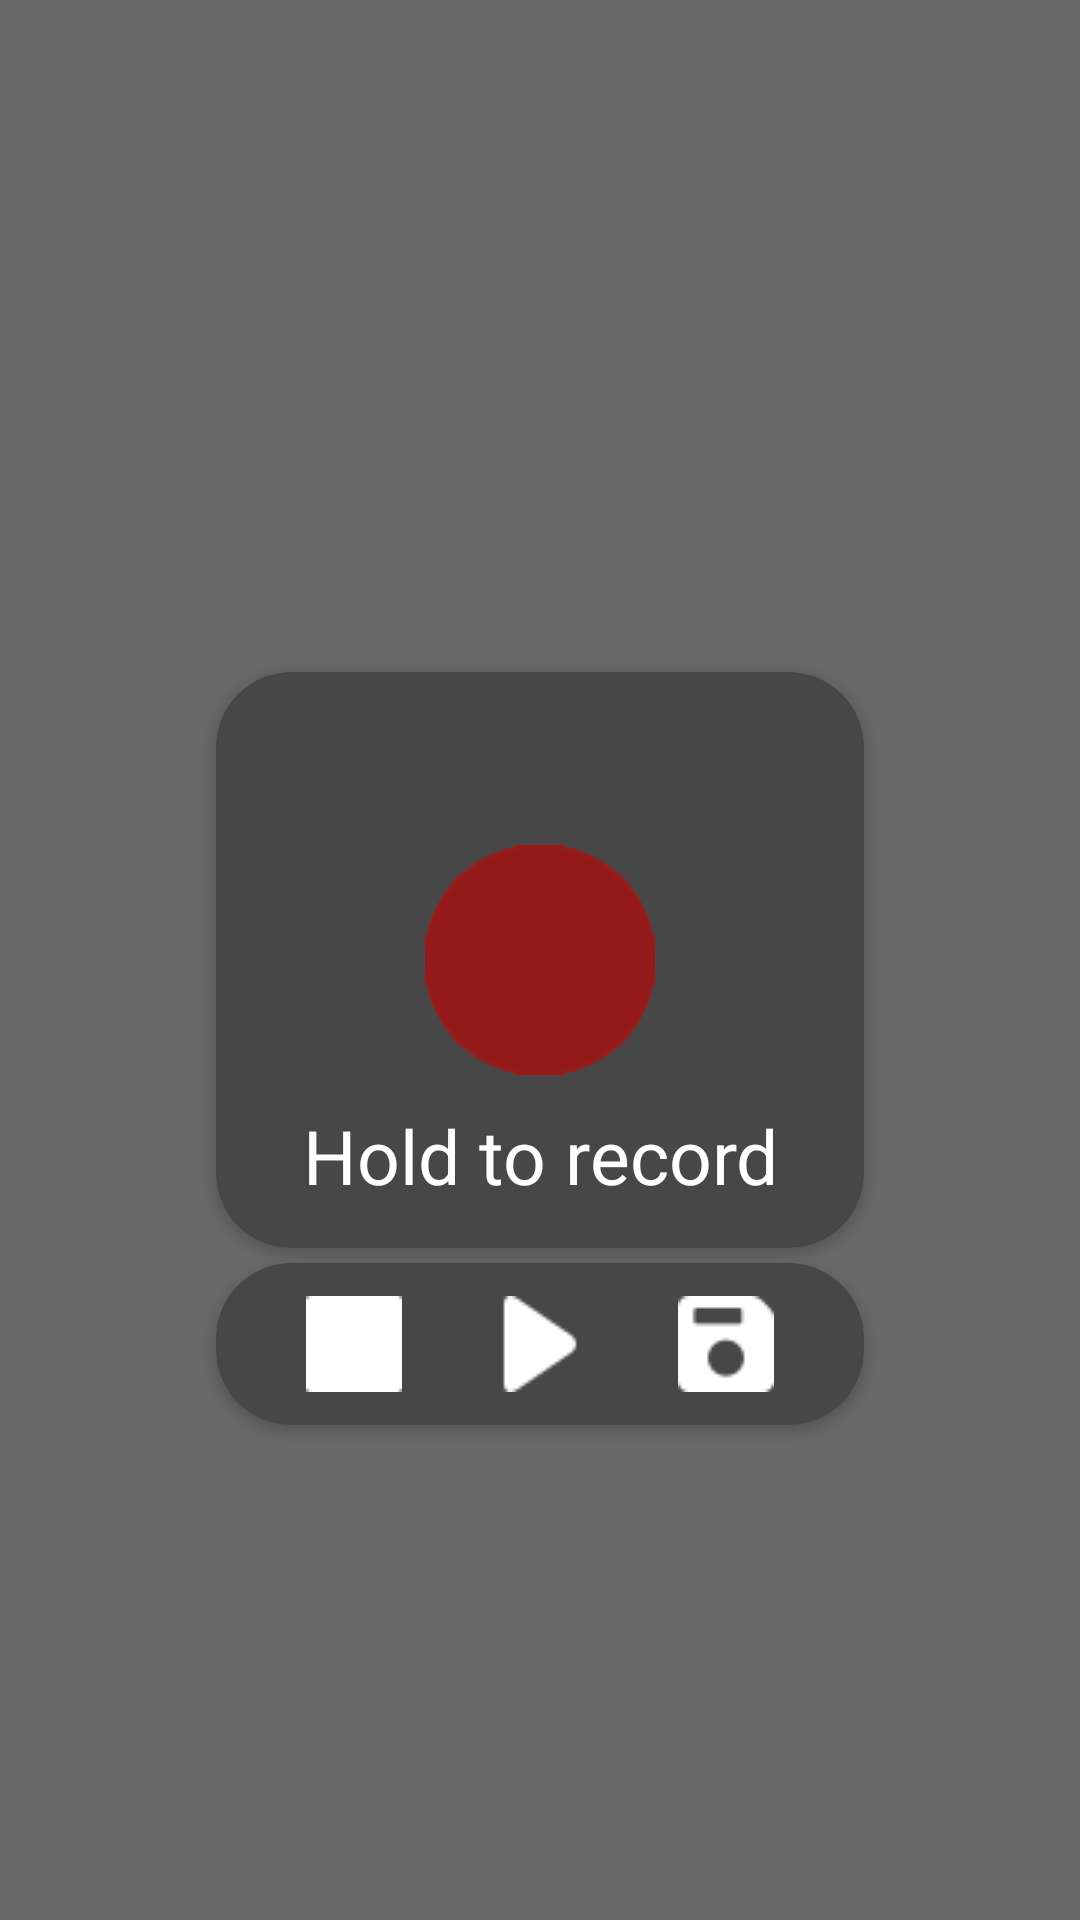

Where to tap for icons on this 1080 x 1920 app screen, as point (x, y):
play: point (540, 1344)
save: point (726, 1344)
stop: point (354, 1344)
